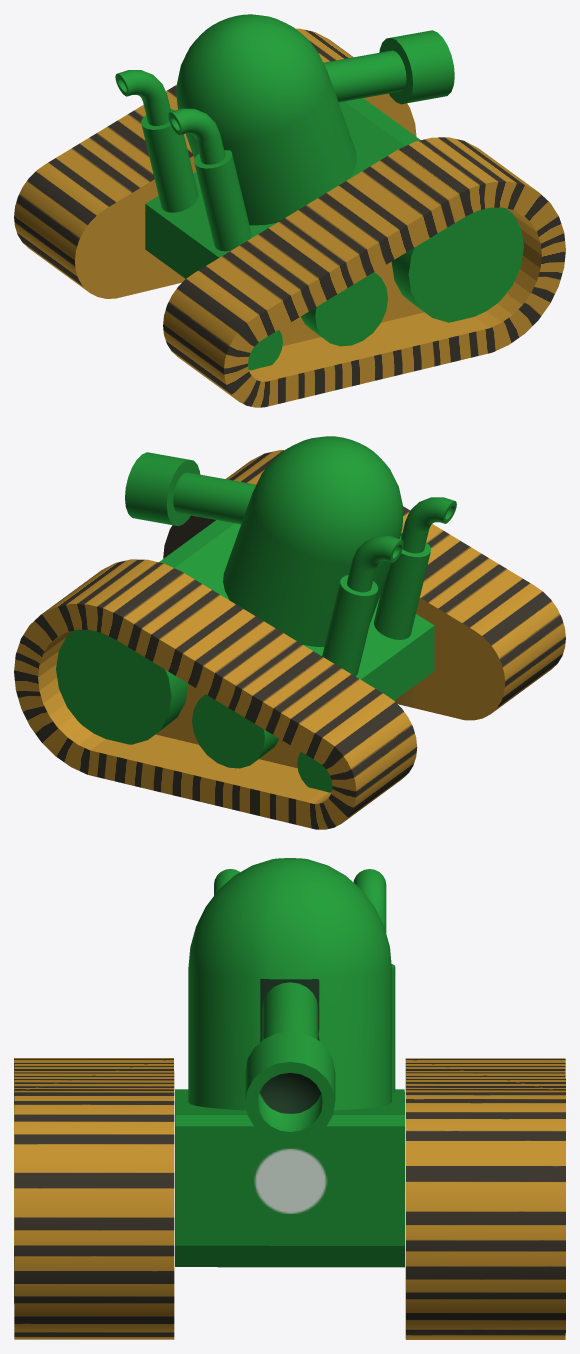
The model's file is tankunity.fbx.
3 renders of one model, top to bottom at view 1: azimuth 30°, elevation 25°; view 2: azimuth 150°, elevation 25°; view 3: azimuth 270°, elevation 25°, orthographic. The views are drawn at different scales.
Visible parts, largest first — view 1: tank_body, tank_torn1, tank_pipa; view 2: tank_body, tank_torn1, tank_pipa; view 3: tank_body, tank_torn1, tank_pipa.
Boxes of the visible parts, x1,y1,x2,y2 form: tank_body: (14,28,565,407); tank_torn1: (176,14,356,225); tank_pipa: (323,30,454,104); tank_body: (14,450,565,829); tank_torn1: (223,436,403,646); tank_pipa: (125,452,255,526); tank_body: (14,869,565,1339); tank_torn1: (188,858,391,1110); tank_pipa: (245,982,335,1142).
Bounding box in the file's own units: 4.9 × 3.94 × 5.2.
